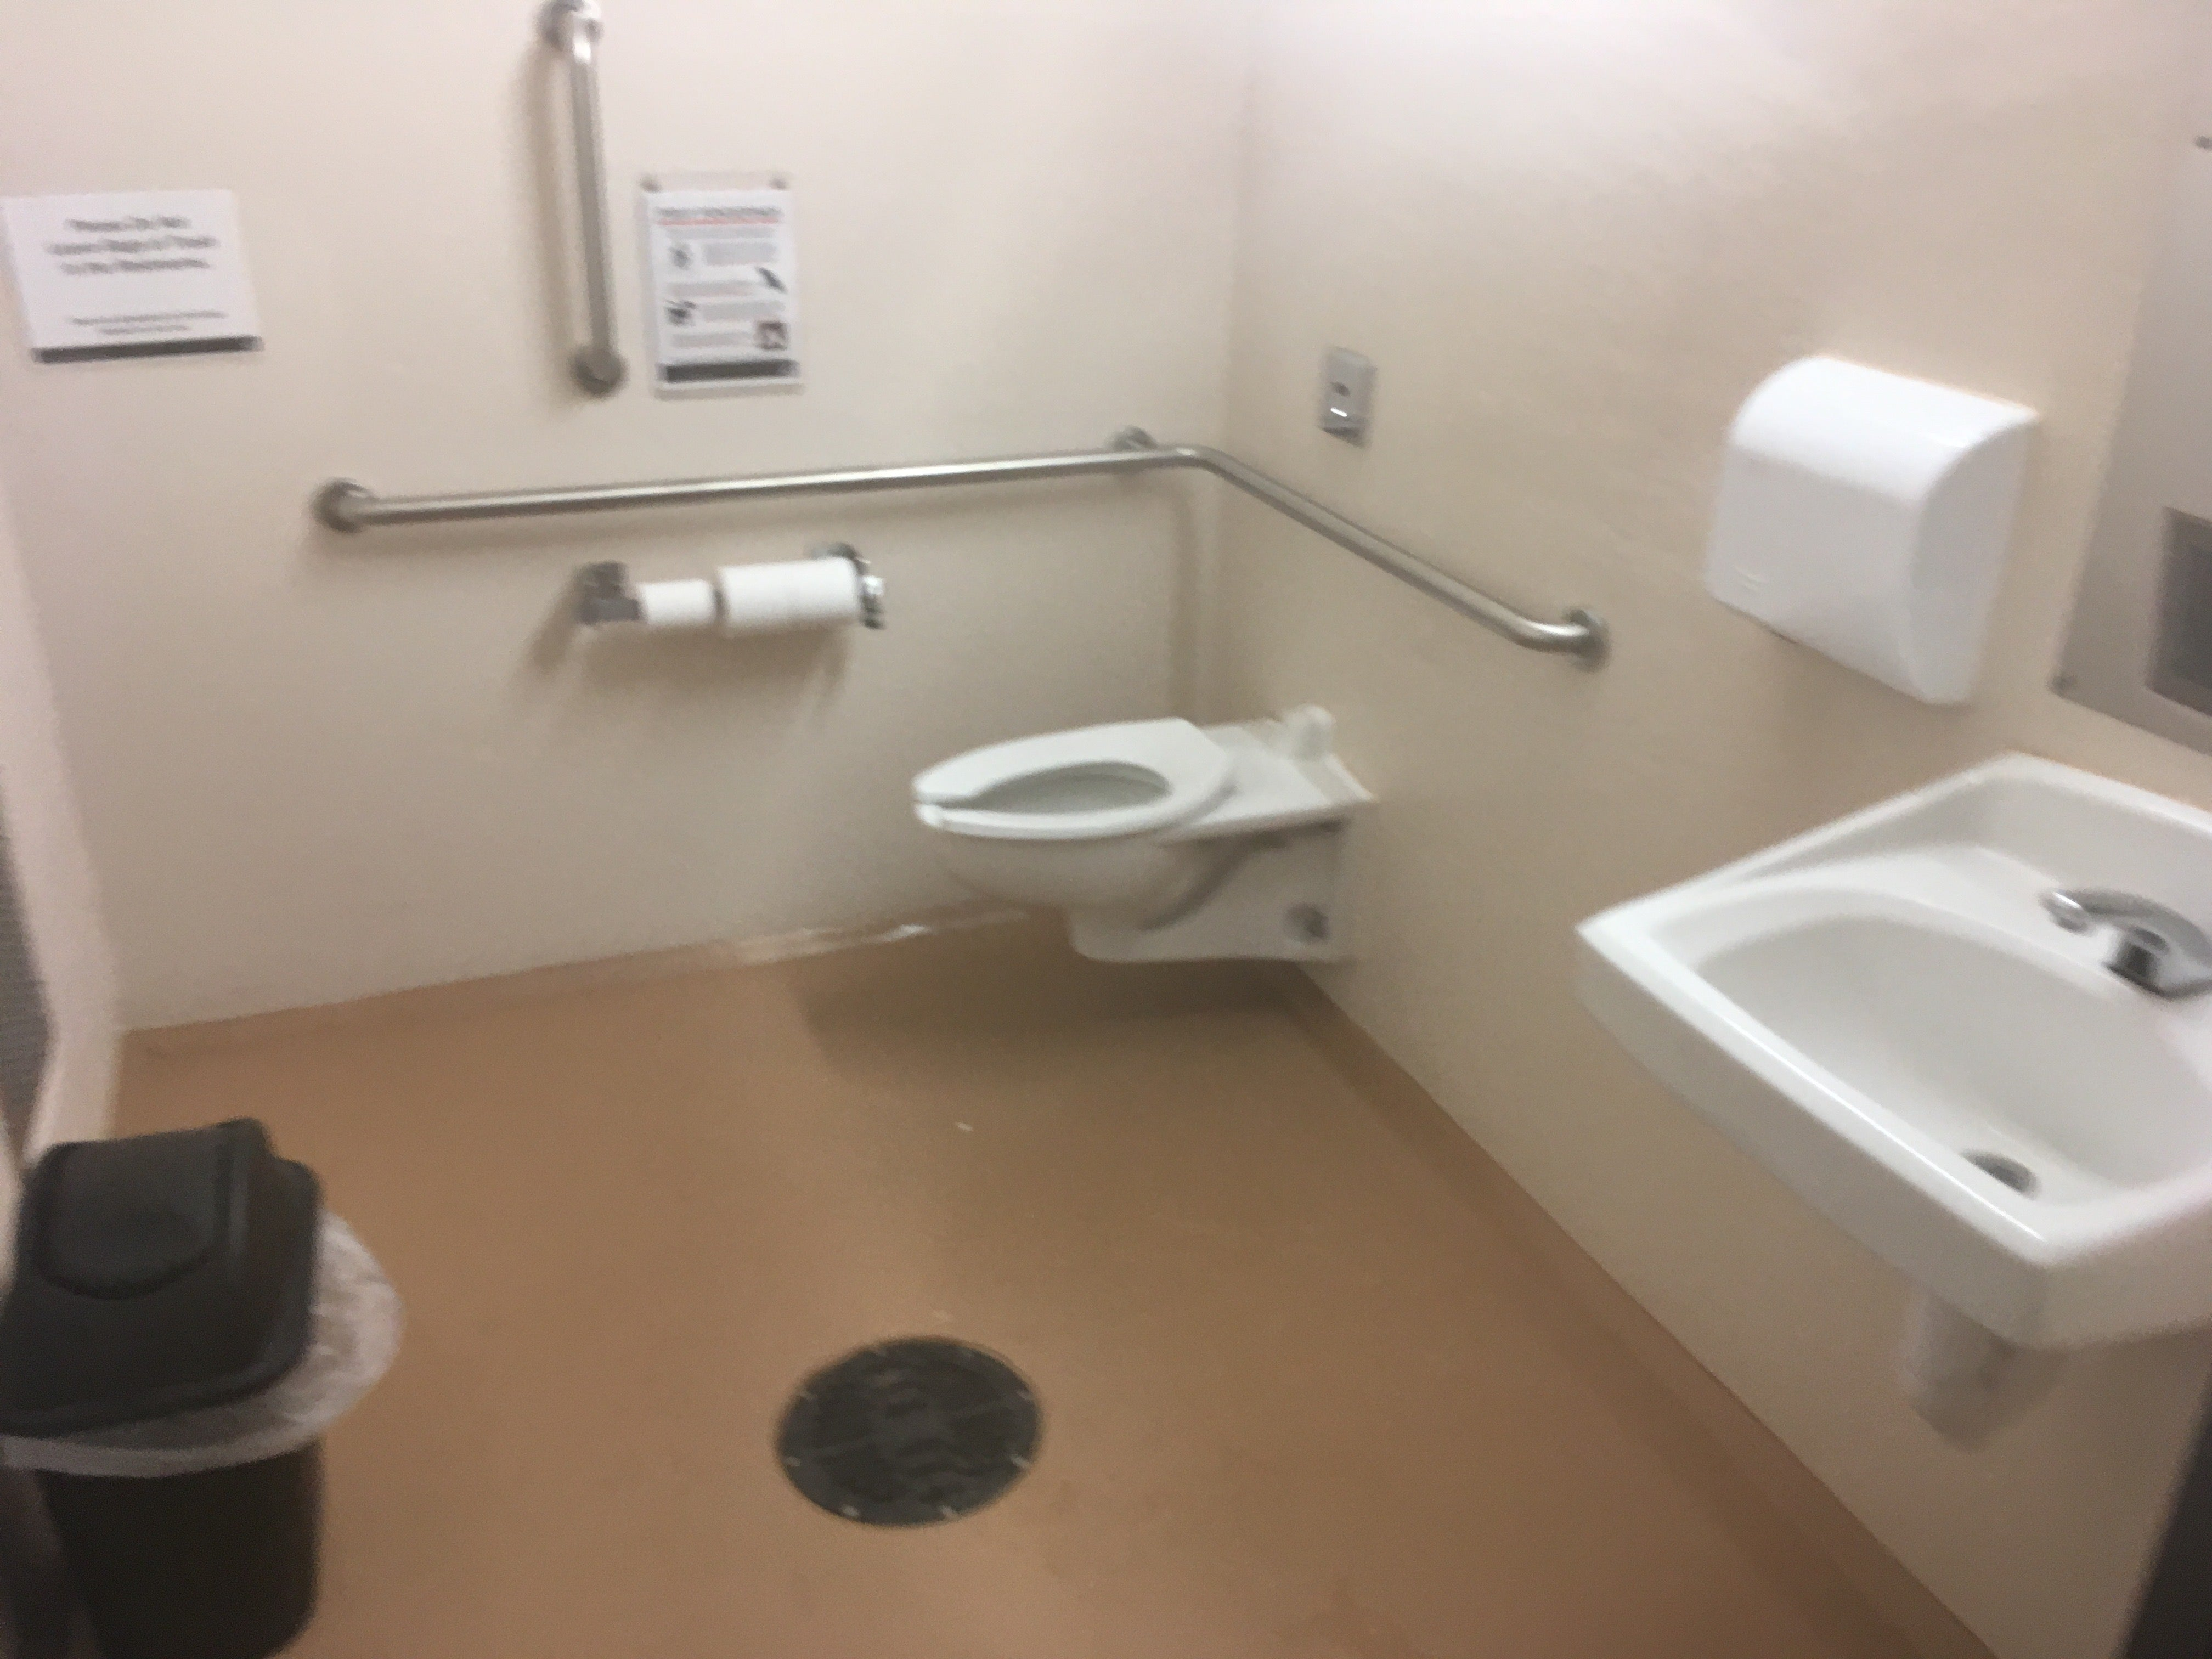dispenser: (1705, 349, 2045, 711), (603, 549, 895, 669)
faucet: (2043, 882, 2212, 995)
restroom_assist_bar: (303, 425, 1195, 535), (1179, 441, 1615, 657), (549, 0, 636, 401)
sink: (1566, 746, 2212, 1439)
toilet: (897, 702, 1376, 965)
waste_bin: (0, 1115, 406, 1659)
